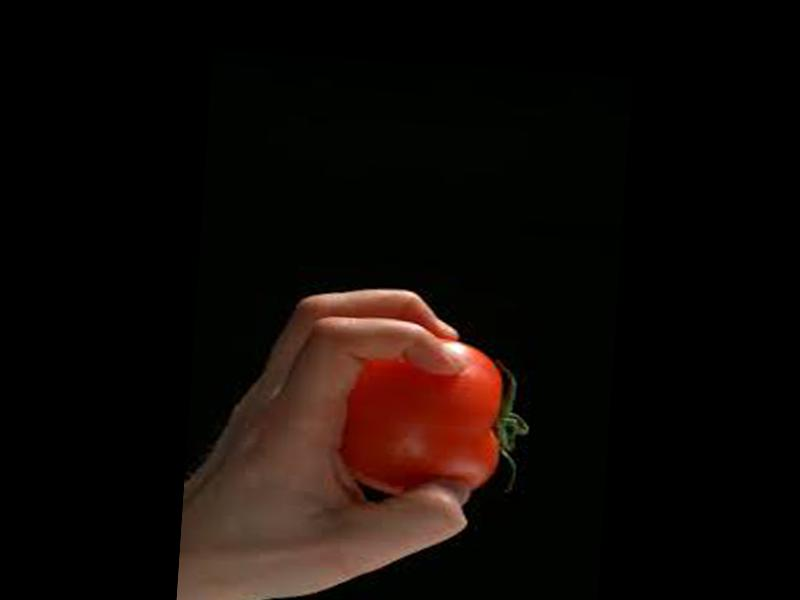Tomato: (343, 335, 531, 502)
